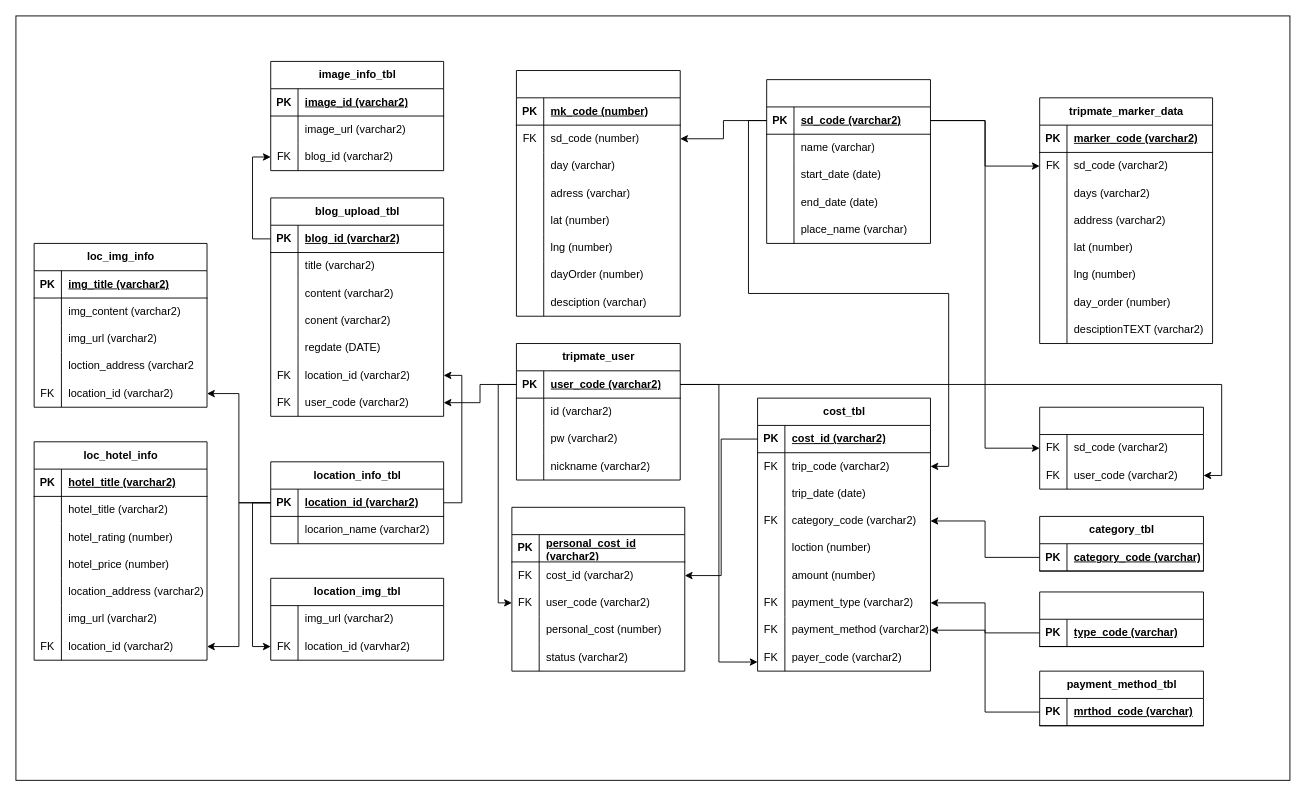
The diagram is 1306 pixels wide and 796 high, and some of its shapes have lost their labels. Each missing label, with the box of its shape:
markerData: (516, 70, 680, 316)
payment_type_tbl: (1039, 591, 1203, 647)
personal_cost_tbl: (511, 506, 685, 671)
trip_member_tbl: (1039, 406, 1203, 489)
tripmate_schedule: (766, 79, 930, 243)
